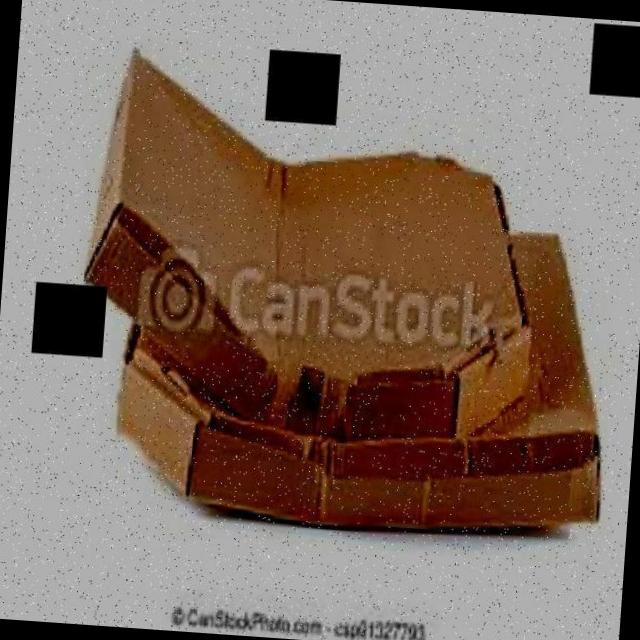box: (59, 44, 550, 442)
